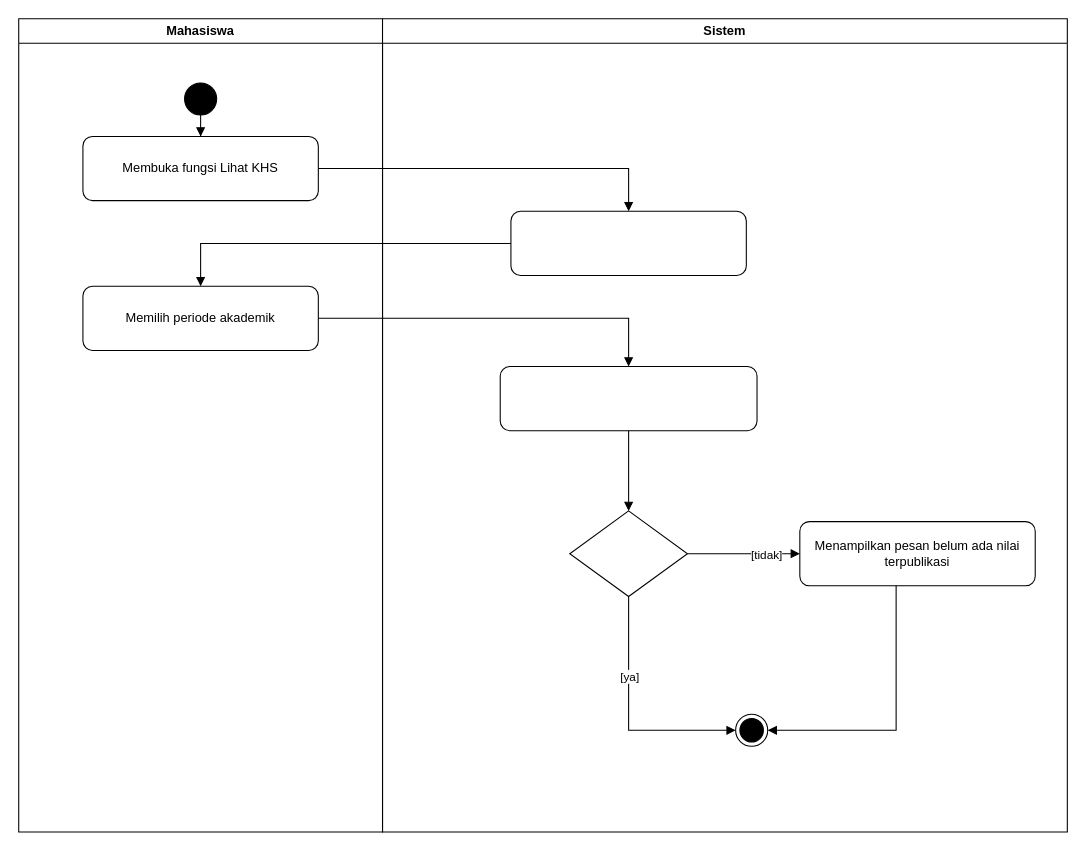
Some shapes in this 1086 by 851 pixel diagram are drawn without their labels. The centre of each missing label's shape, as x and y in pixels:
Ada nilai terpublikasi?: (628,553)
Menampilkan daftar periode akademik: (628,243)
Menampilkan KHS berisi nilai yang sudah dipublikasikan: (628,398)
